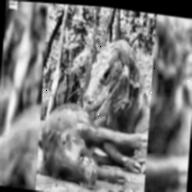boar: (35, 87, 145, 192)
